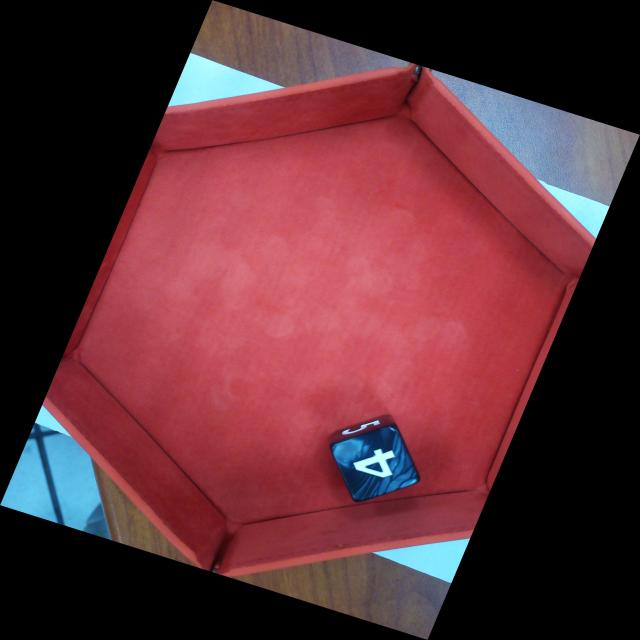dice: (335, 426, 422, 503)
